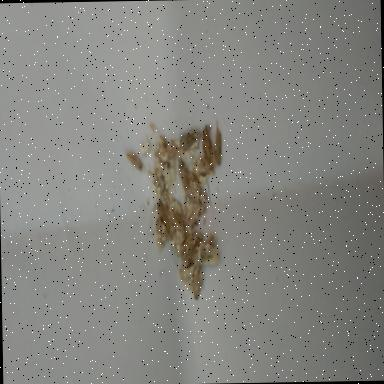pbw: (201, 124, 216, 172), (178, 130, 200, 154), (156, 200, 170, 237), (184, 236, 200, 268), (170, 207, 186, 236), (124, 152, 144, 174), (192, 268, 204, 302), (178, 160, 190, 194), (215, 124, 222, 168)
